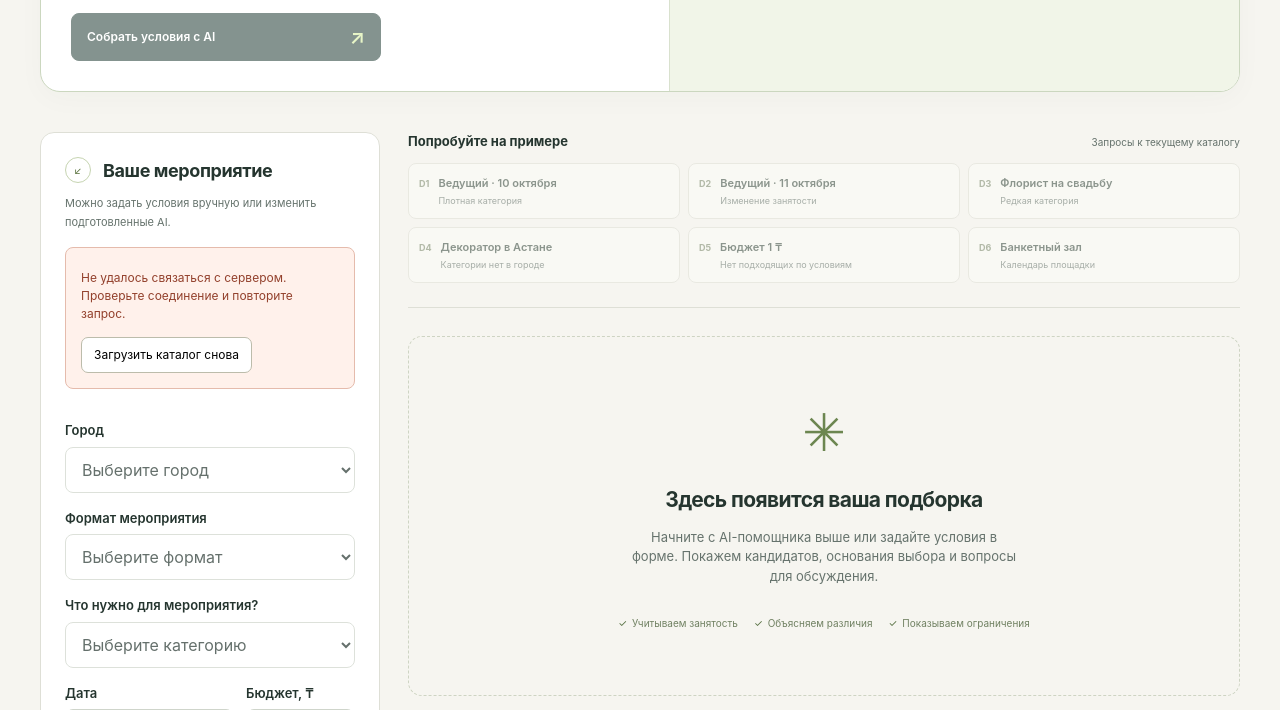
Firebird UI contract › retries failed options without inventing a local catalog
The width and height of the screenshot is (1280, 710).
(page scrolled)
Click the button "Загрузить каталог снова" at (166, 355), box left=81, top=337, right=252, bottom=373
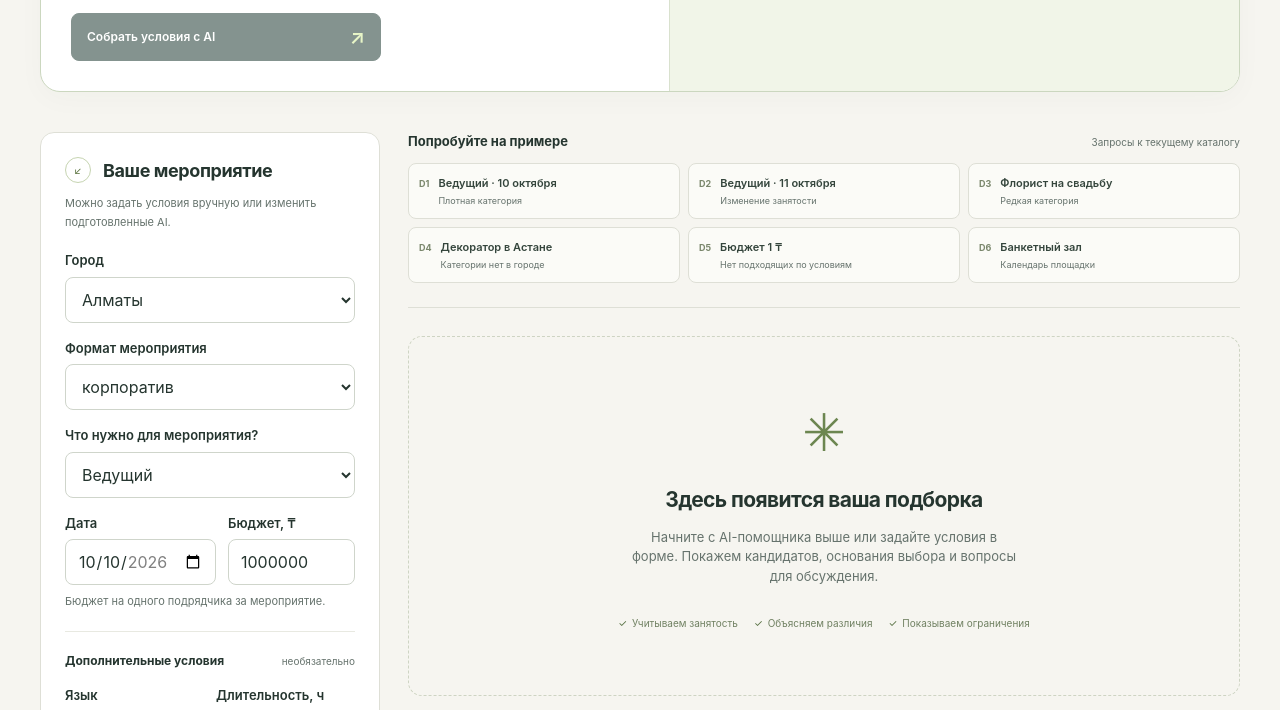
Expected: the dropdown labelled "Город" shows "Алматы", left=65, top=277, right=355, bottom=323
